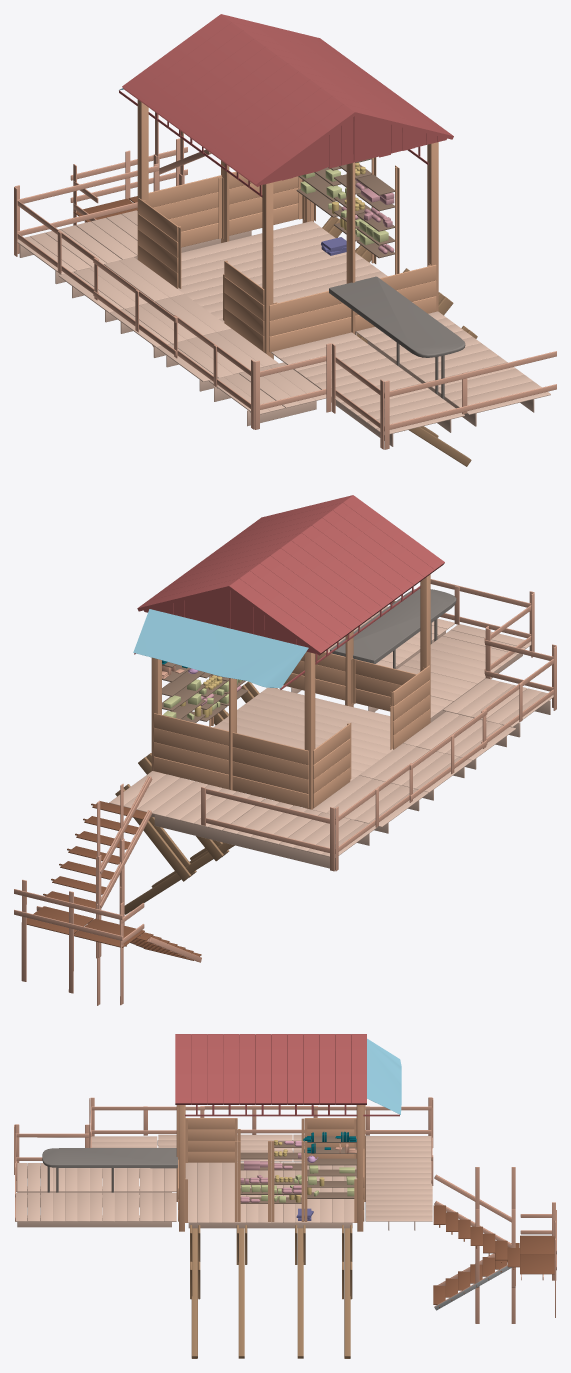
The model's file is ParadiseStructure.FBX.
The picture shows the model from 3 angles, top to bottom: view 1: azimuth 30°, elevation 25°; view 2: azimuth 150°, elevation 25°; view 3: azimuth 270°, elevation 25°; orthographic projection. The views are drawn at different scales.
Visible parts, largest first — view 1: Pylons and Blocks1, Plane02, Object242, Object07, ChamferBox011, ChamferBox203, Object66; view 2: Pylons and Blocks1, Plane02, Object242, Object196, Object07, Object66, ChamferBox011, ChamferBox203; view 3: Pylons and Blocks1, Plane02, Object242, Object66, Object196, ChamferBox011, Object07, ChamferBox203.
Part boxes in pixels (x1,y1,x2,y2): Pylons and Blocks1: [17, 100, 550, 446]; Plane02: [119, 14, 453, 197]; Object242: [14, 112, 556, 449]; Object07: [329, 276, 465, 399]; ChamferBox011: [296, 158, 394, 258]; ChamferBox203: [300, 162, 394, 255]; Object66: [322, 216, 477, 466]; Pylons and Blocks1: [109, 574, 553, 869]; Plane02: [133, 495, 444, 689]; Object242: [14, 579, 556, 1005]; Object196: [26, 801, 201, 960]; Object07: [330, 588, 456, 668]; Object66: [115, 681, 293, 914]; ChamferBox011: [162, 662, 247, 722]; ChamferBox203: [162, 660, 242, 719]; Pylons and Blocks1: [15, 1105, 432, 1231]; Plane02: [175, 1034, 401, 1116]; Object242: [14, 1097, 556, 1323]; Object66: [190, 1225, 352, 1358]; Object196: [433, 1205, 554, 1307]; ChamferBox011: [240, 1136, 356, 1203]; Object07: [42, 1148, 177, 1192]; ChamferBox203: [240, 1131, 356, 1220].
Size of the model in its own units: 605 by 766 by 1340.
